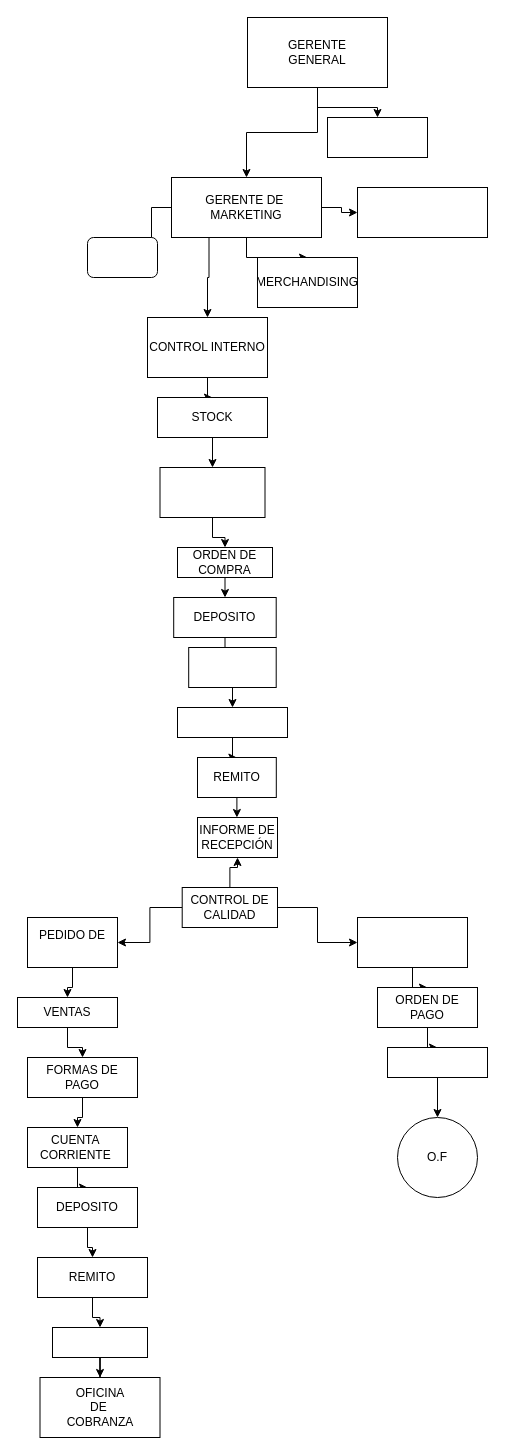
Some shapes in this 505 by 1455 pixel diagram are drawn without their labels. Each missing label, with the centre of its shape:
COMPRAS: the point at 212,492
DEMANDA: the point at 122,257
DIRECTORIO: the point at 377,137
ECHEQ O TRANSFERENCIA: the point at 437,1062
ENVIO DEL PRODUCTO: the point at 232,667
FACTURA: the point at 100,1342
FACTURAS CUENTAS POR PAGAR: the point at 412,942
MENSAJE PUBLICITARIO: the point at 422,212
RECIBO AL DEPOSITO: the point at 232,722
